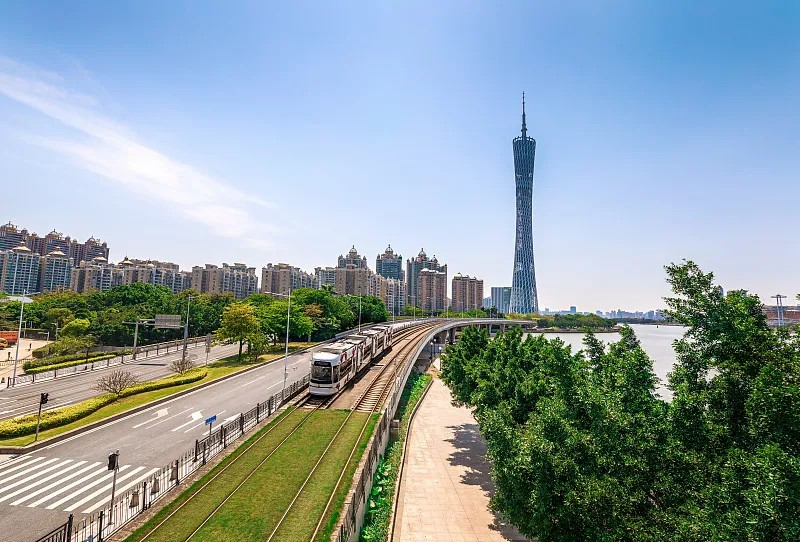Canton: (508, 89, 541, 317)
